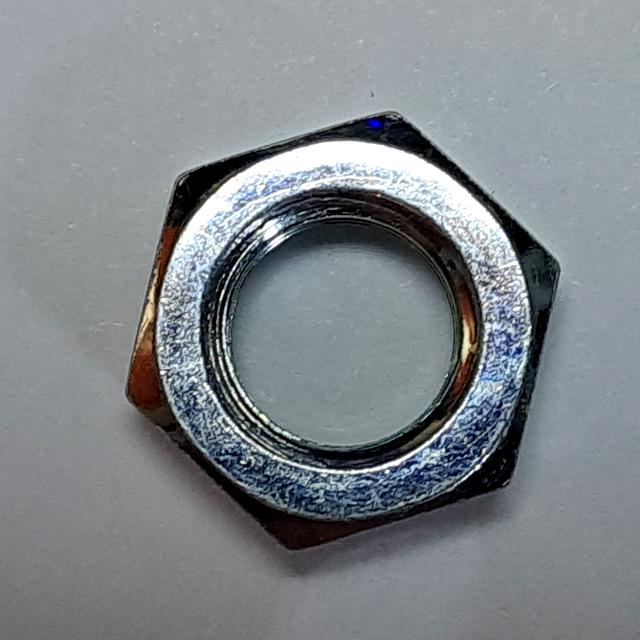Excellent: (105, 102, 577, 569)
